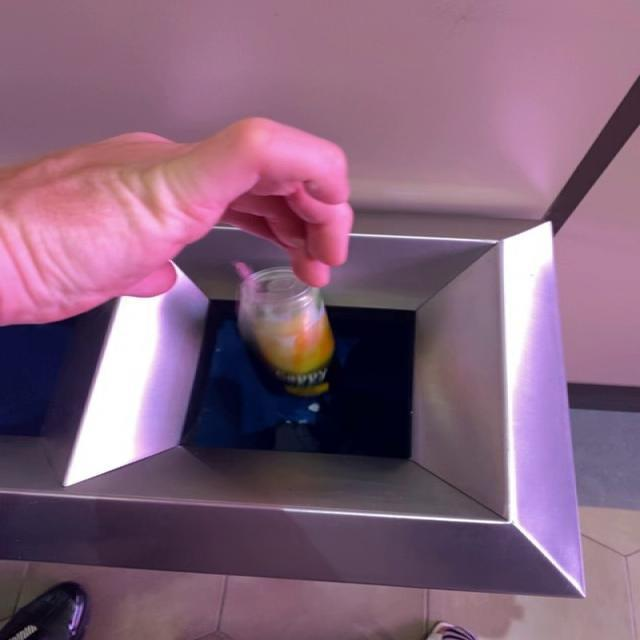Bin: (3, 214, 585, 598)
Metal: (239, 269, 335, 397)
